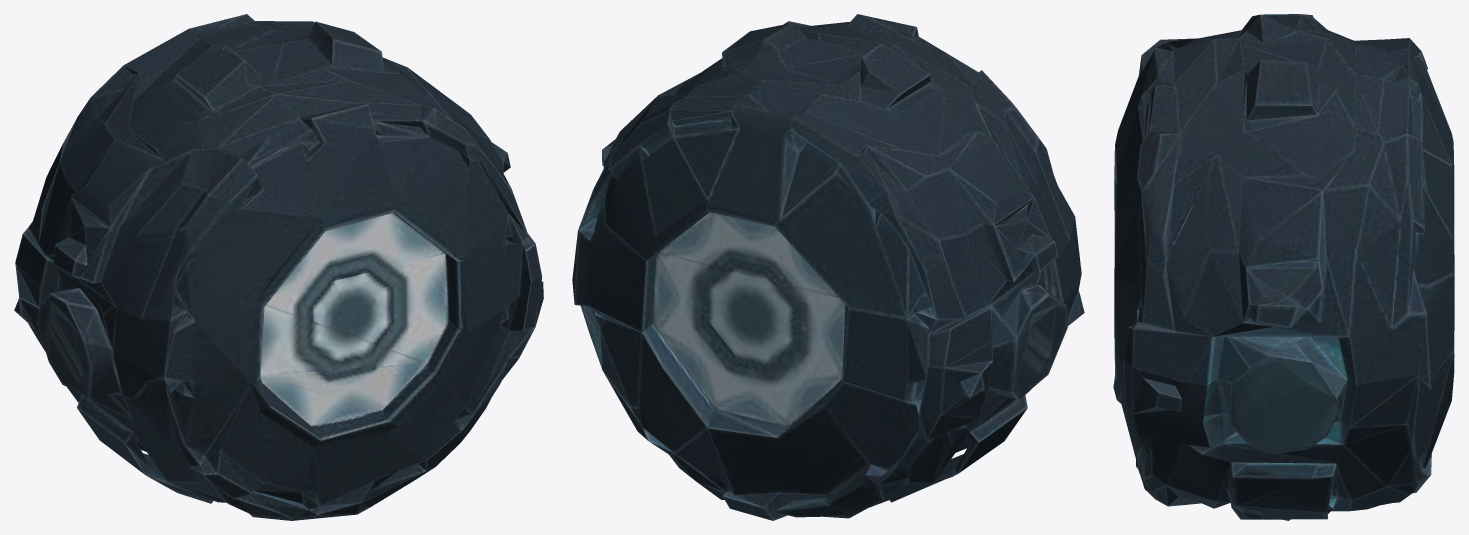
The picture shows the model from 3 angles, left to right: view 1: azimuth 30°, elevation 25°; view 2: azimuth 150°, elevation 25°; view 3: azimuth 270°, elevation 25°; orthographic projection. The views are drawn at different scales.
Size of the model in its own units: 1.89 by 1.86 by 1.24.
Materials: 1 (1 with a texture image).
